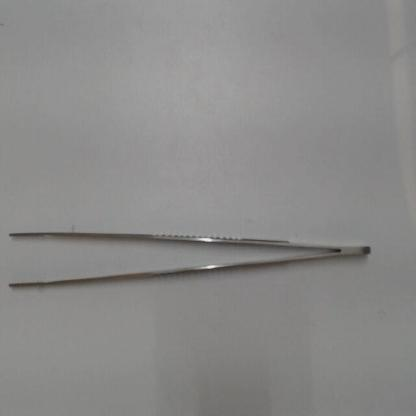DeBakey Dissector: (4, 226, 380, 299)
